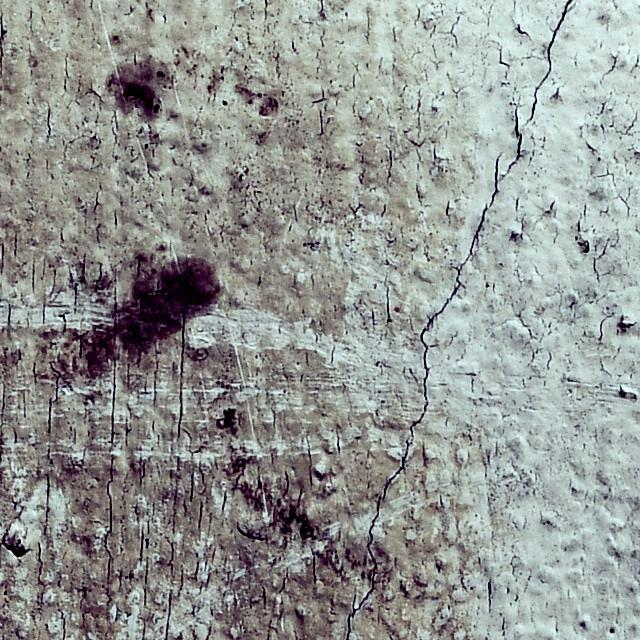diagonal crack: (345, 0, 575, 639)
